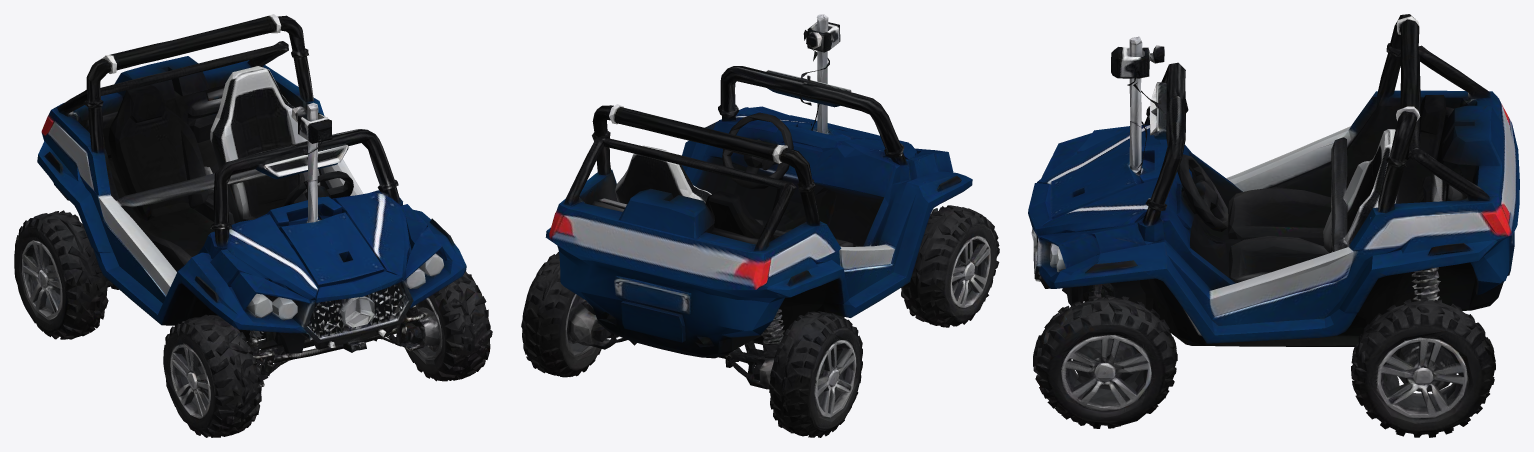
File: car.glb
3 views of the same model, side by side, from view 1: azimuth 30°, elevation 25°; view 2: azimuth 150°, elevation 25°; view 3: azimuth 270°, elevation 25° (orthographic). The views are drawn at different scales.
Visible parts, largest first — view 1: model; view 2: model; view 3: model.
Part boxes in pixels (<box>): model: <box>14,14,492,437</box>; model: <box>521,14,999,437</box>; model: <box>1028,14,1519,437</box>.
Bounding box in the file's own units: 1.44 × 1.39 × 1.9.
Materials: 1 (1 with a texture image).
